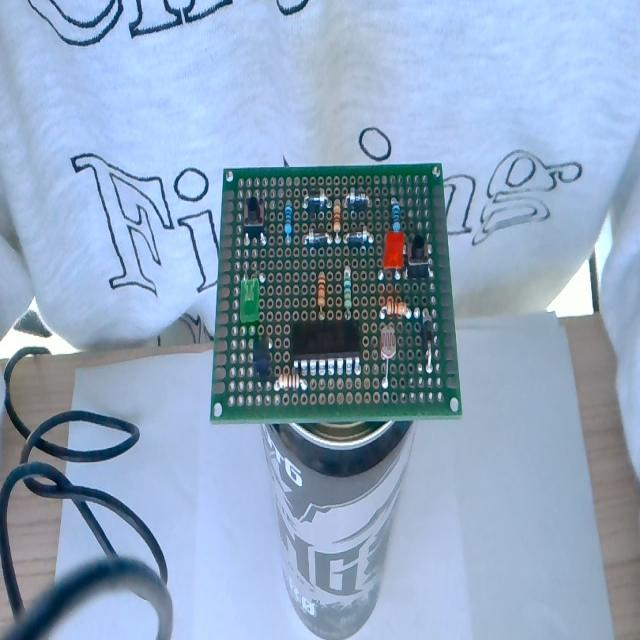cds: (375, 316, 401, 390)
diode: (421, 300, 437, 372), (340, 224, 374, 254), (301, 226, 334, 252), (299, 184, 332, 209), (343, 185, 375, 209)
led: (237, 271, 269, 329), (378, 230, 406, 286)
resistor: (278, 198, 296, 255), (274, 370, 309, 399), (374, 296, 412, 319), (332, 198, 344, 254), (340, 265, 354, 313), (314, 263, 326, 319), (388, 193, 402, 239)
switch: (238, 198, 270, 246), (406, 228, 434, 278)
